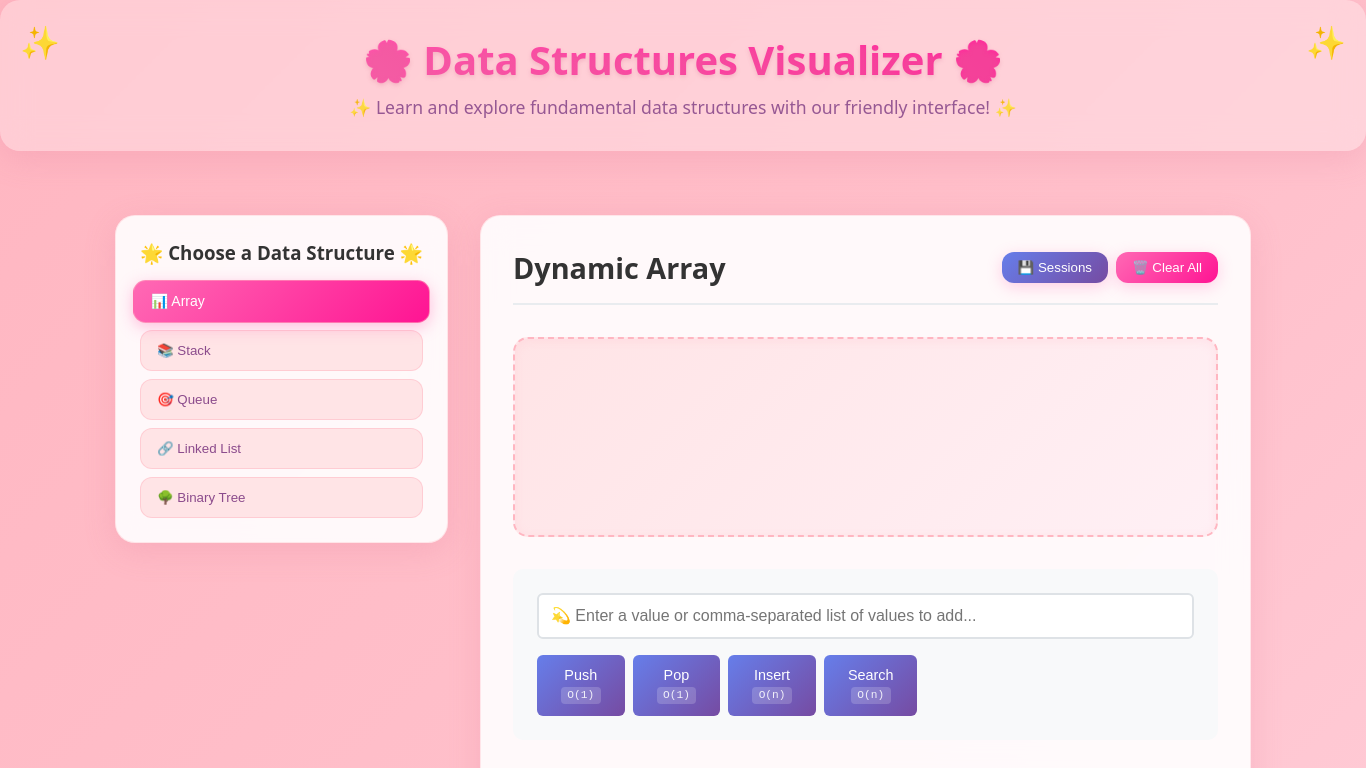
DataStructures Component › switches between data structure tabs
Expected: the heading "Dynamic Array" is shown, [513,248,726,287]
// Click on Stack tab
Step 1. Click the tab "📚 Stack" → (184, 350), box [140,330,423,371]
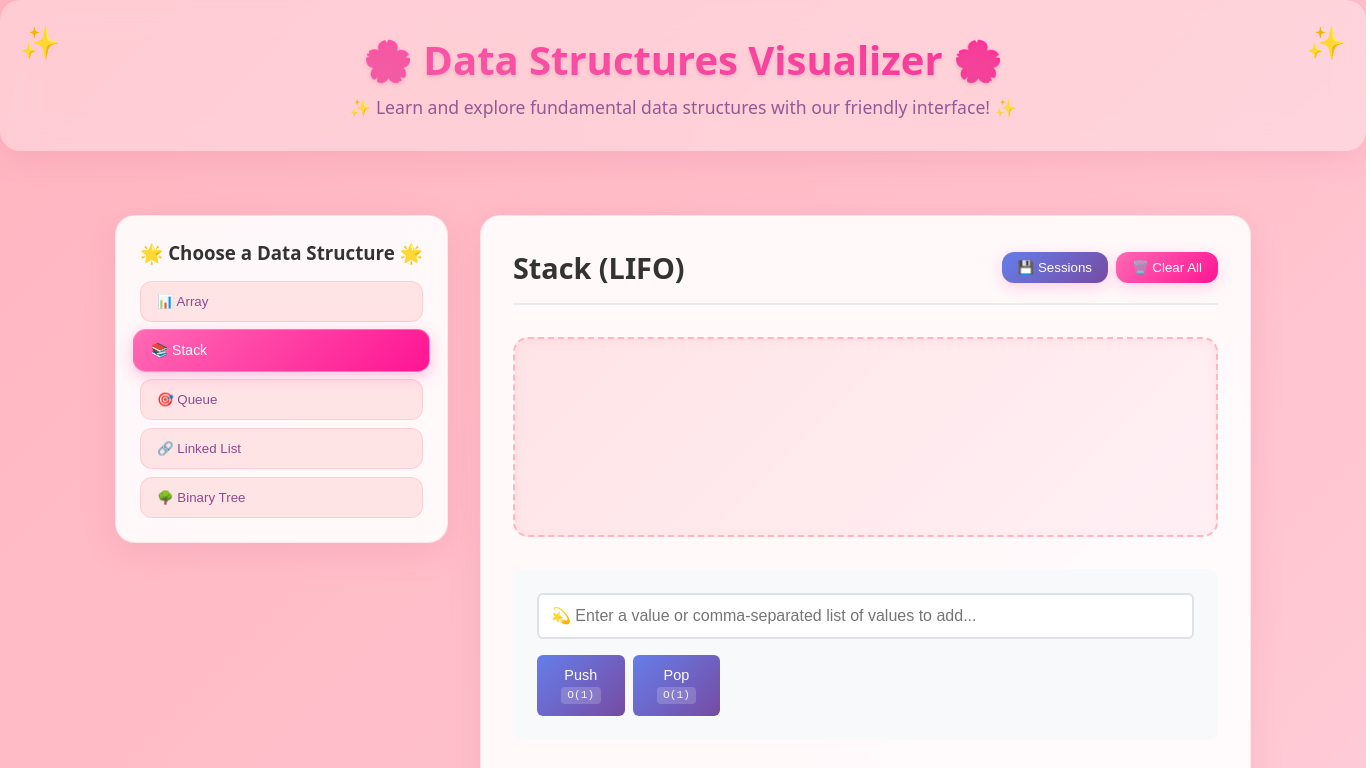
Result: the heading "Stack (LIFO)" is shown at [513,248,685,287]
// Click on Queue tab
Step 2. Click the tab "🎯 Queue" → (187, 400), box [140,379,423,420]
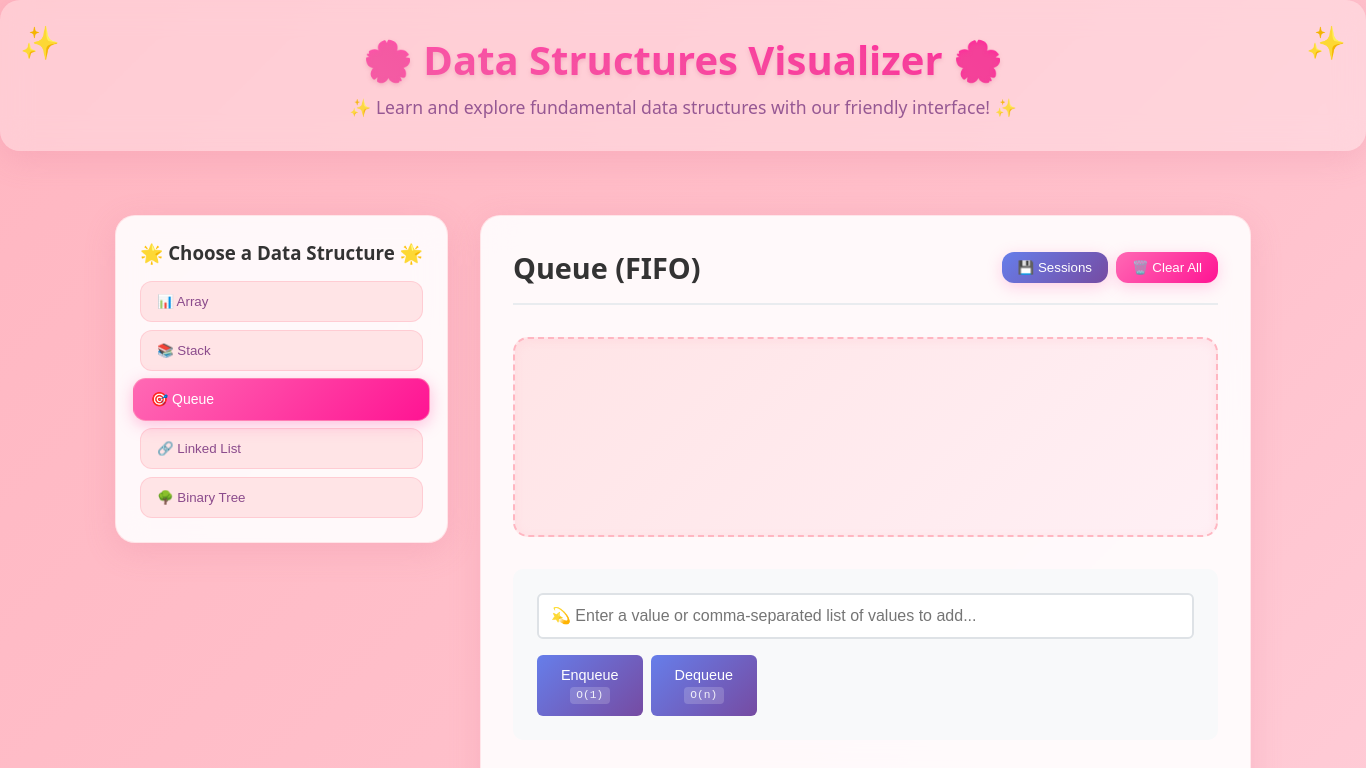
Result: the heading "Queue (FIFO)" is shown at [513,248,701,287]
